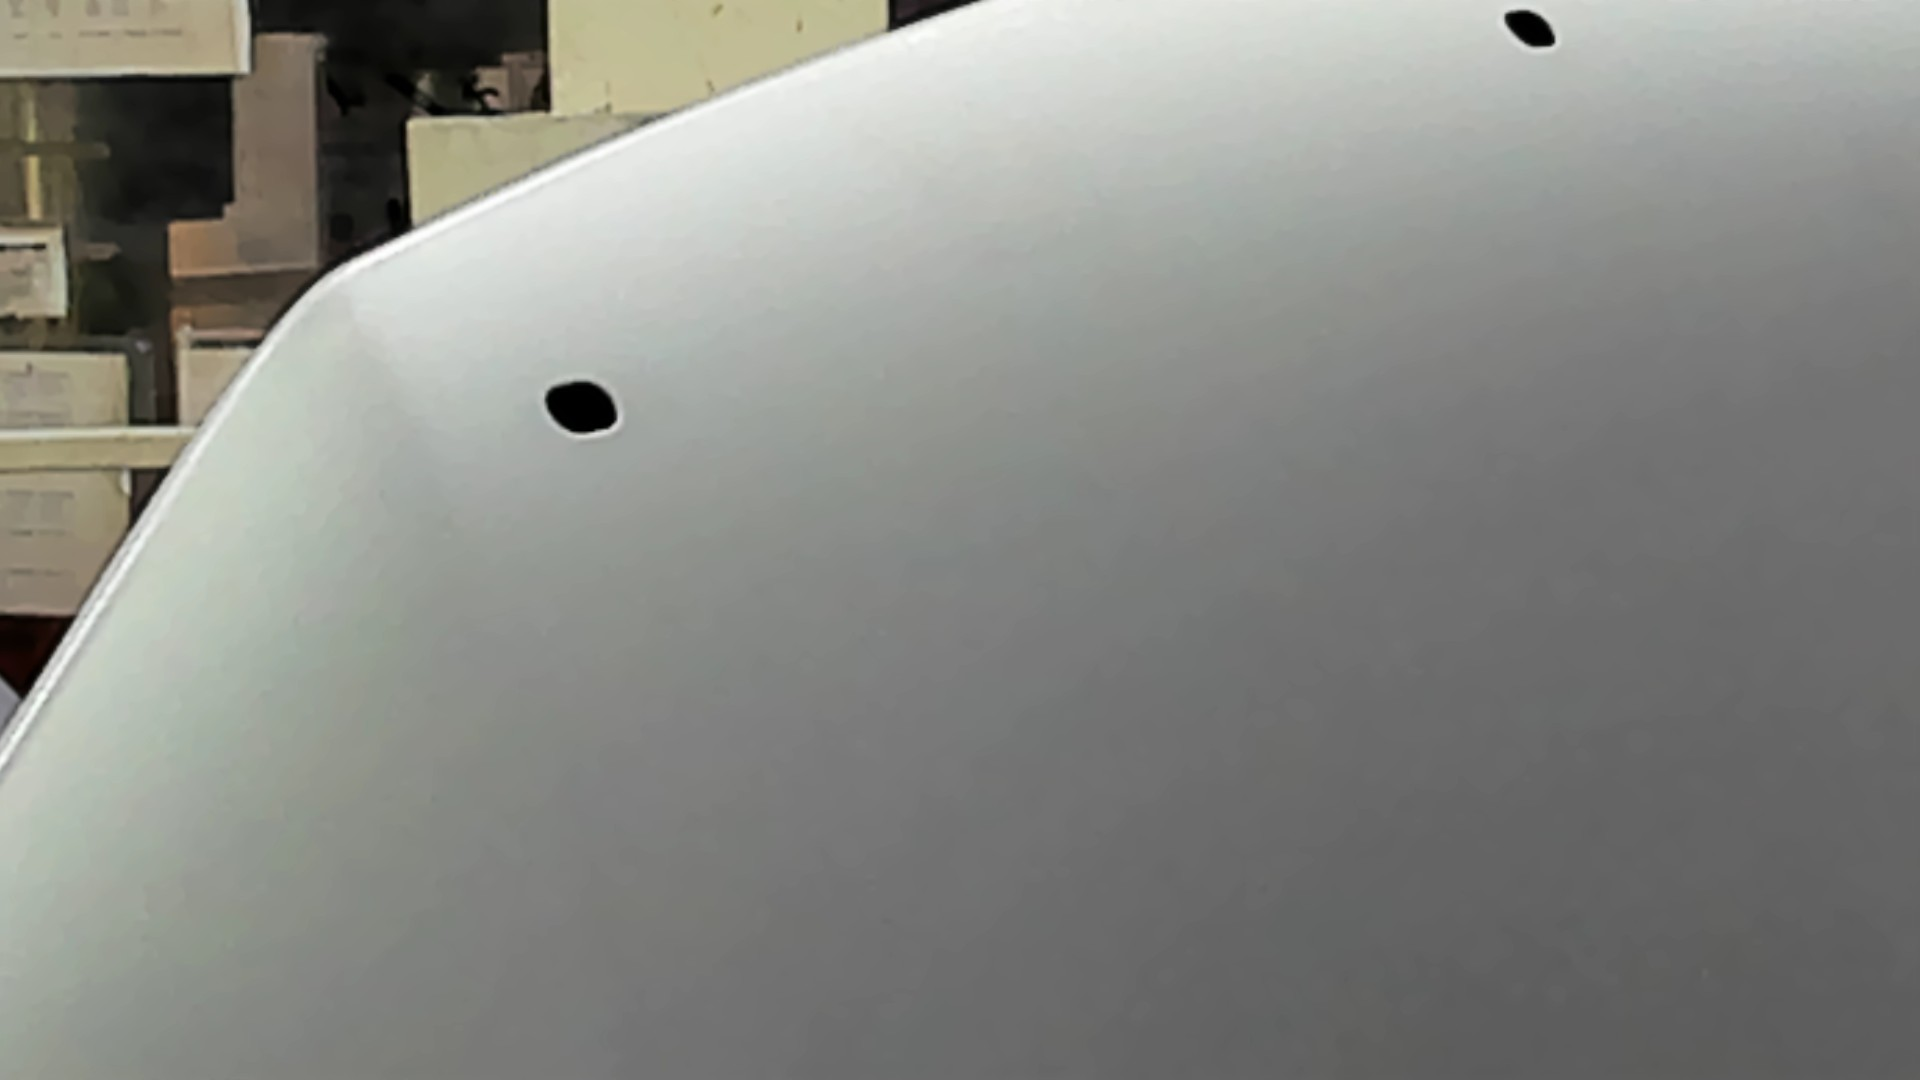amorfo: (537, 375, 629, 447), (1498, 5, 1565, 51)
